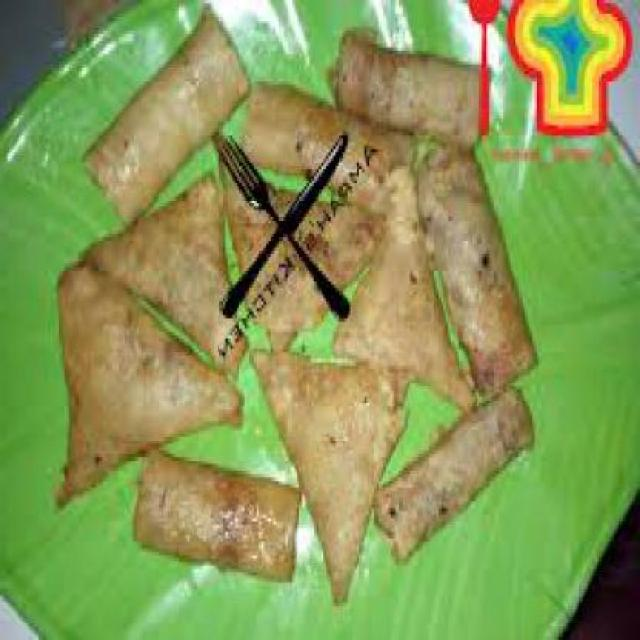samosa: (64, 166, 427, 488)
spring rolls: (99, 37, 532, 197), (388, 135, 540, 562), (124, 447, 304, 565)
